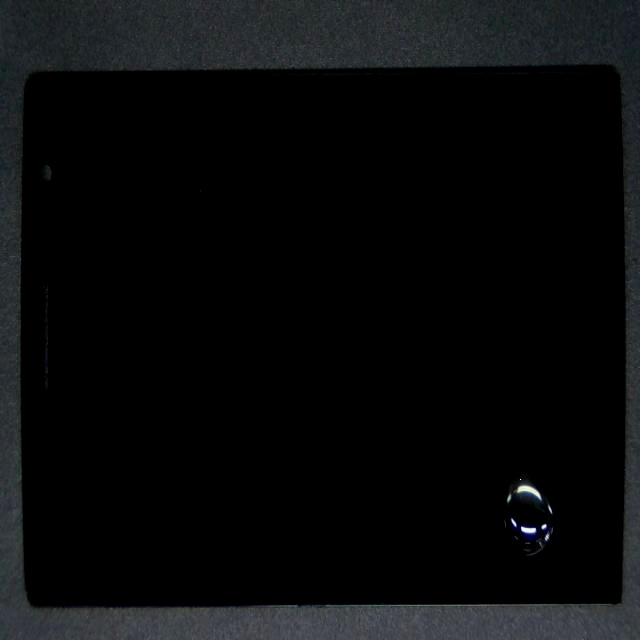oil: (293, 263, 640, 640)
